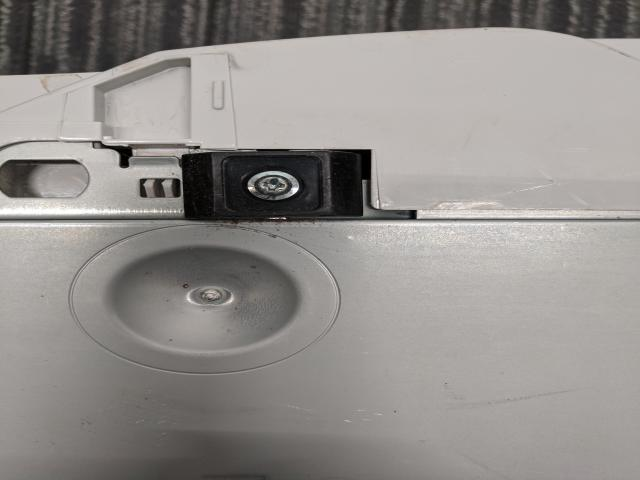CRS: (254, 176, 298, 195)
